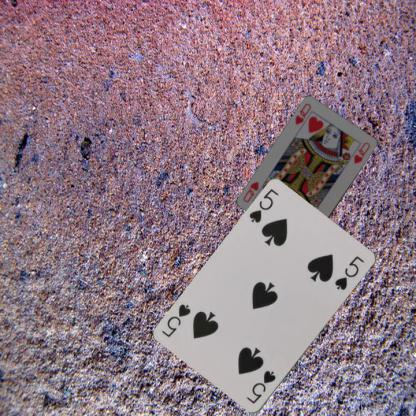5s: (247, 186, 280, 225), (244, 368, 277, 406)
Qh: (292, 100, 312, 126)
